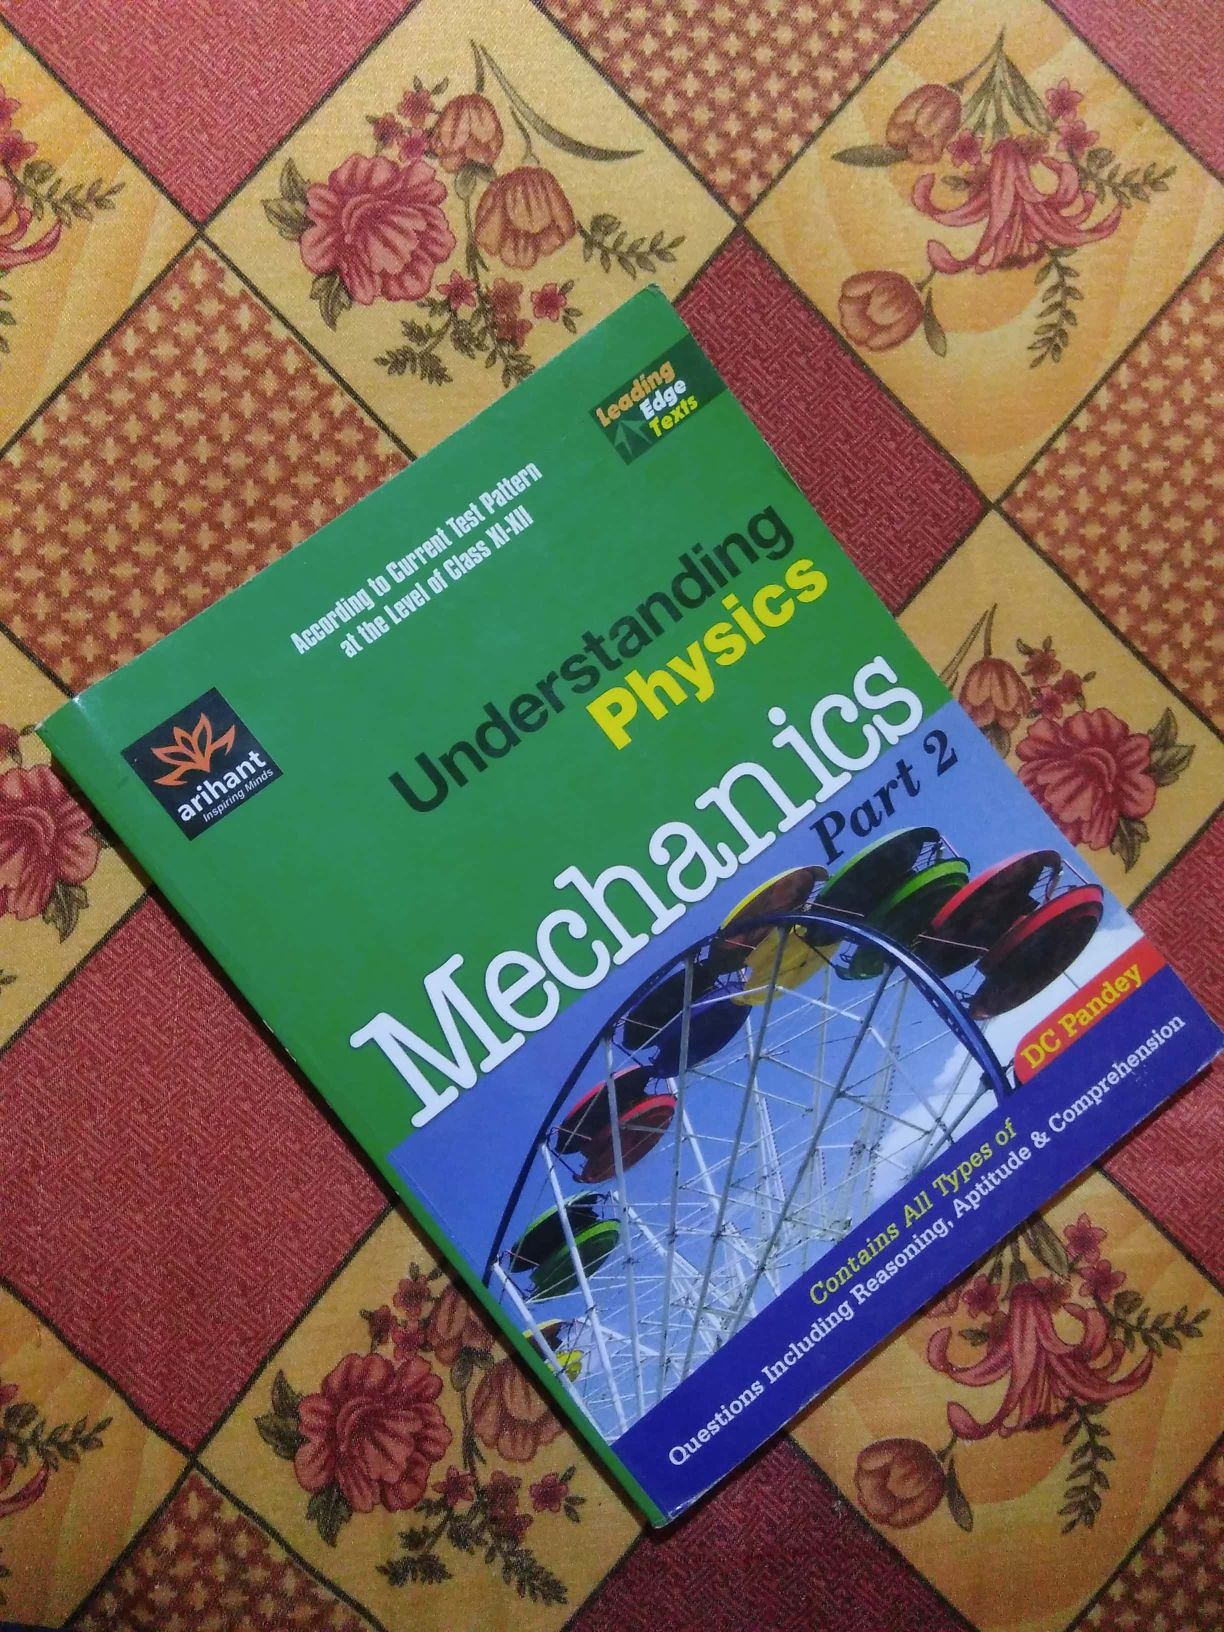mechanics: (90, 351, 1164, 1466)
